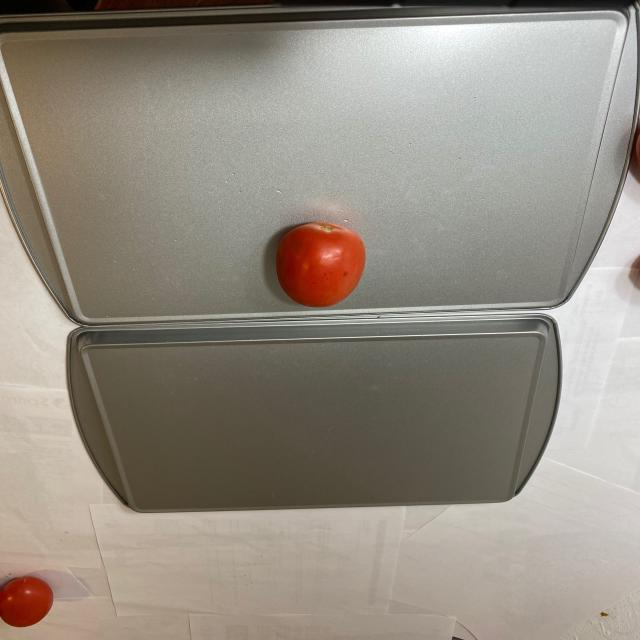tomato: (277, 221, 369, 309), (3, 558, 58, 634)
